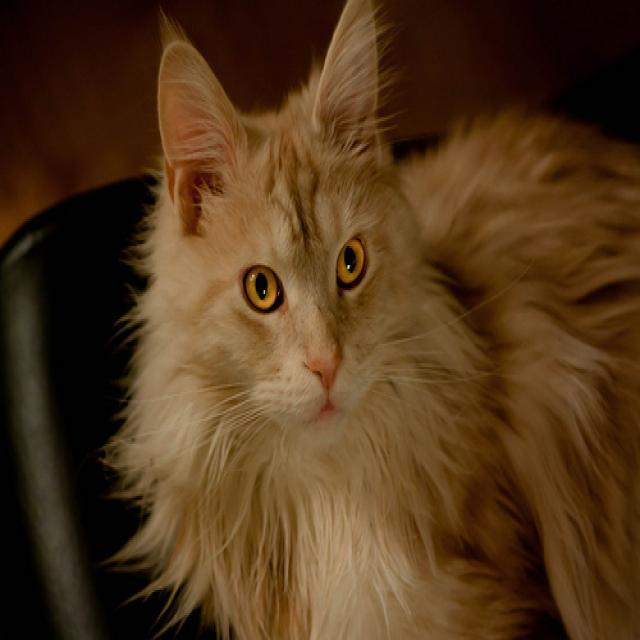Maine_Coon: (160, 0, 438, 461)
